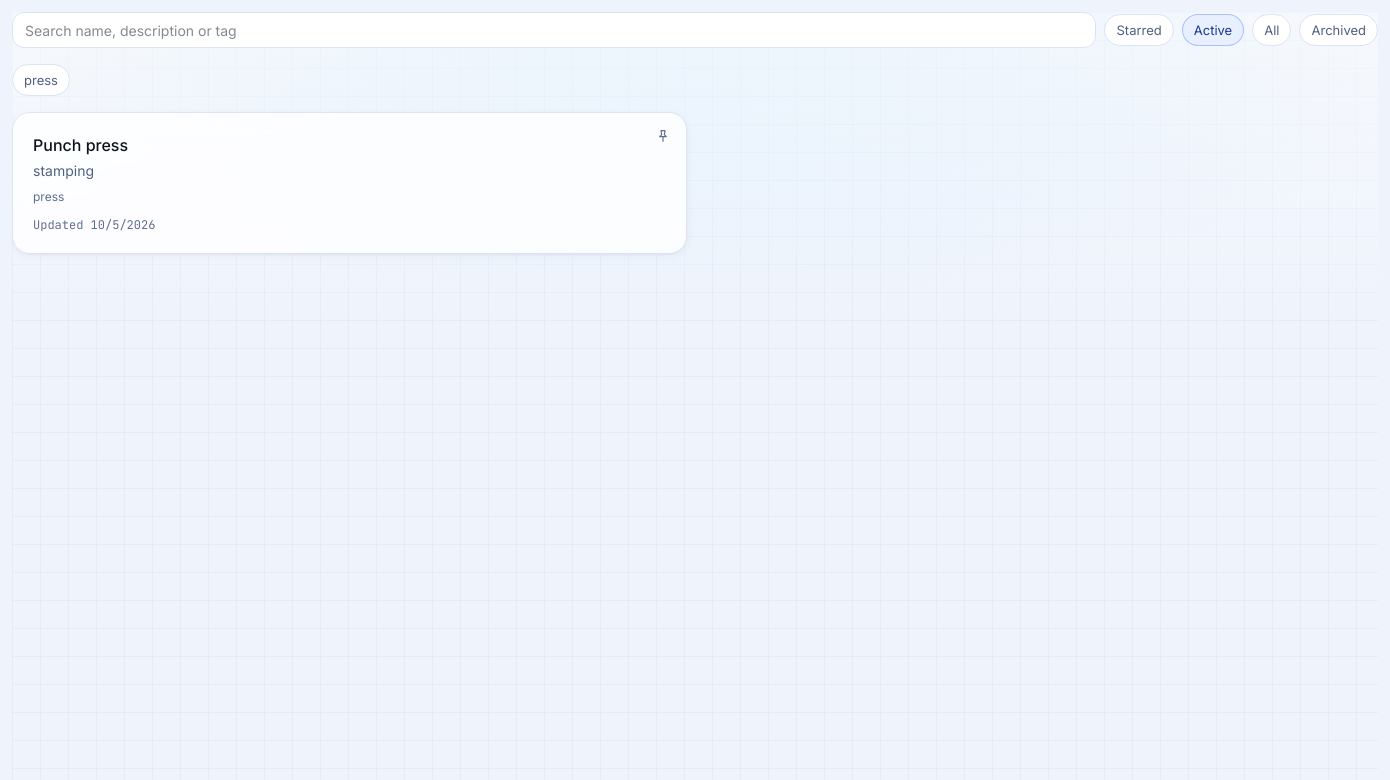
ProjectBrowser › asks the API for a search, and shows what came back
The image size is (1390, 780).
Step 1. Type "gear" into the search field named "Search projects" → point(554, 30), box [12, 12, 1096, 48]
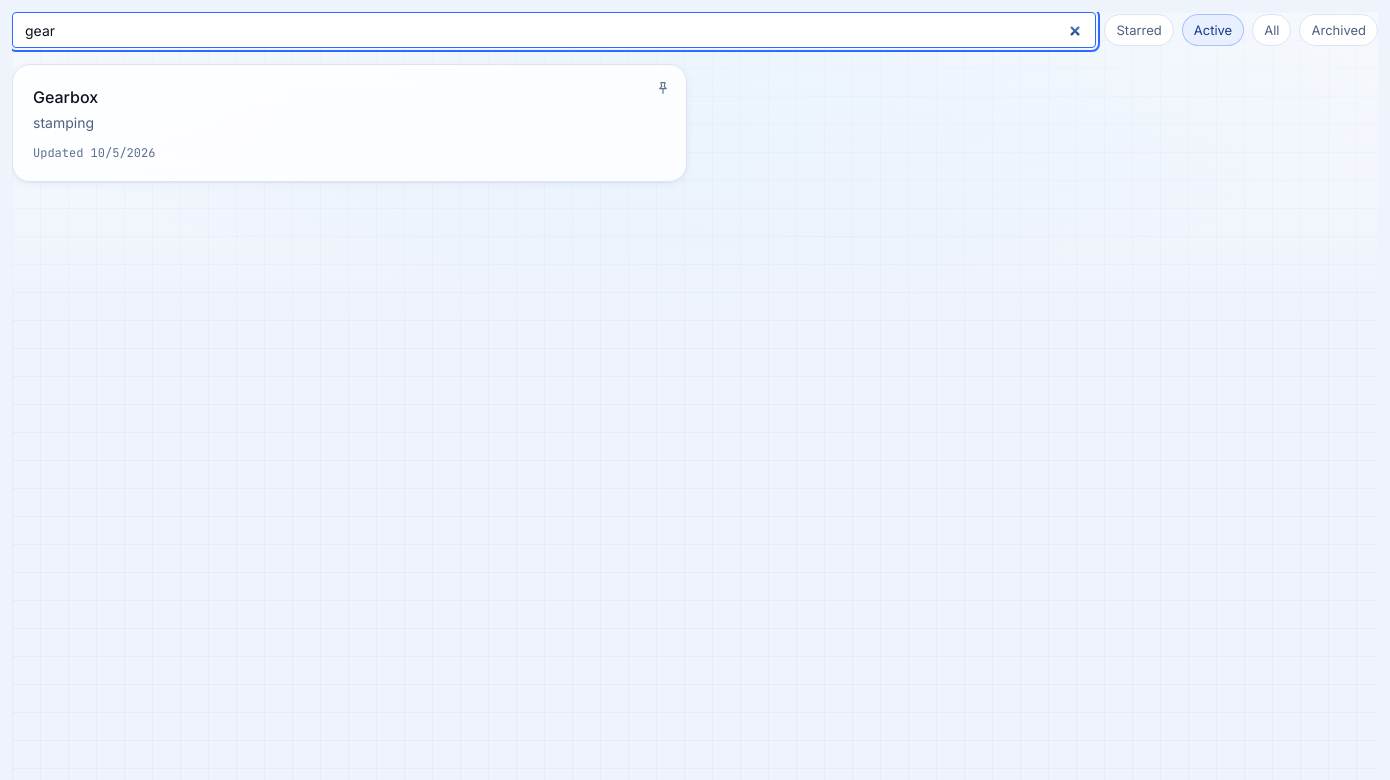
Expected: the heading "Gearbox" is shown, [33, 87, 98, 107]
Expected: the link "Punch press" is gone
